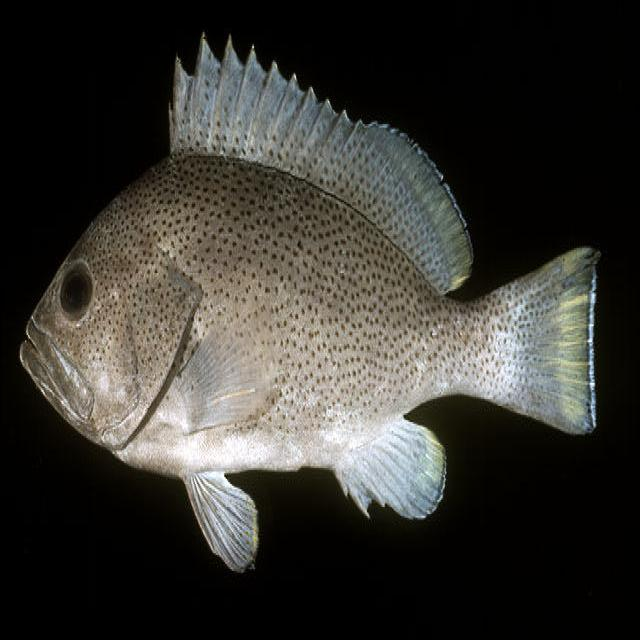ikan: (18, 28, 601, 574)
